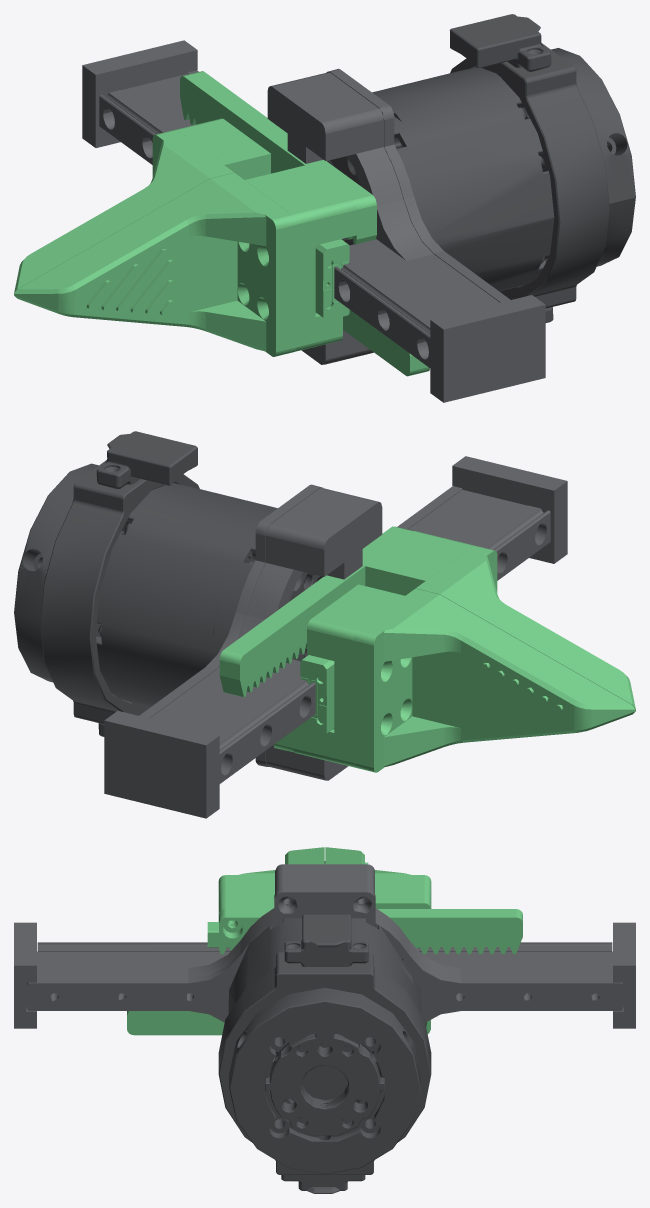
3 views of the same model, one above another, from view 1: azimuth 30°, elevation 25°; view 2: azimuth 150°, elevation 25°; view 3: azimuth 270°, elevation 25° (orthographic). The views are drawn at different scales.
Size of the model in its own units: 0.1667 by 0.0818 by 0.1841.
